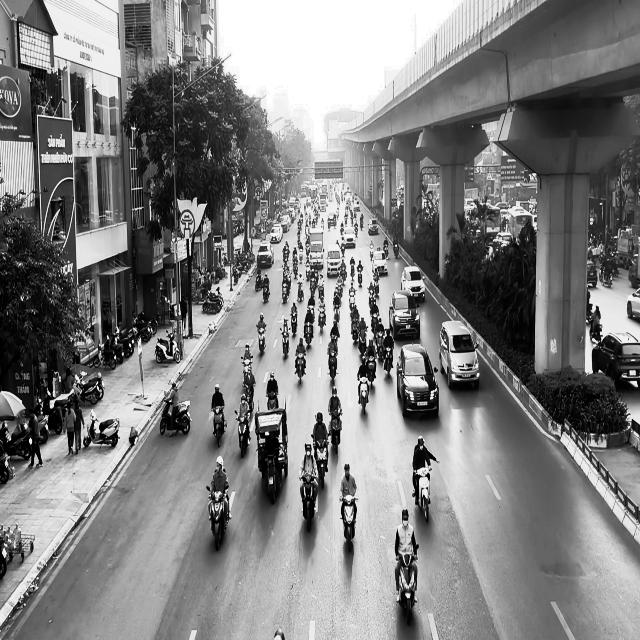car: (396, 342, 439, 418), (439, 320, 480, 390), (591, 331, 640, 388), (389, 290, 420, 340), (626, 286, 640, 320)
motorbike: (395, 544, 418, 625), (206, 484, 231, 551), (411, 461, 435, 522), (82, 410, 120, 448), (159, 396, 191, 435), (299, 474, 318, 532), (339, 494, 358, 552), (312, 437, 329, 489), (234, 409, 251, 457), (212, 405, 227, 447), (328, 409, 342, 454), (295, 348, 306, 384), (256, 324, 266, 356)
